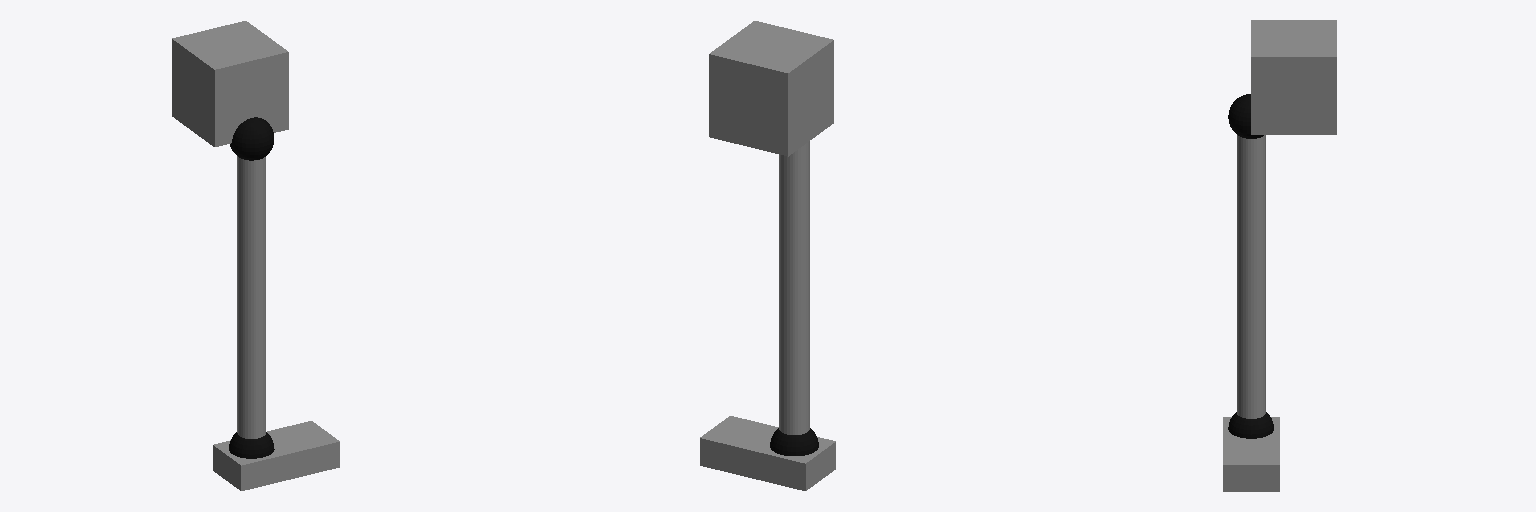
The robot description file, URDF, robot "right":
<?xml version="1.0"?>
<robot name="right">
  <!-- common materials -->
  <material name="black">
    <color rgba="0.1 0.1 0.1 1.0"/>
  </material>
  <material name="gray">
    <color rgba="0.6 0.6 0.6 1.0"/>
  </material>
  <material name="red">
    <color rgba="1 0 0 1"/>
  </material>
  <material name="green">
    <color rgba="0 1 0 1"/>
  </material>
  <material name="blue">
    <color rgba="0 0 1 1"/>
  </material>


  <!-- Pelvis -->
  <link name="pelvis">
    <visual>
      <geometry>
        <box size="0.15 0.15 0.15"/>
      </geometry>
      <origin xyz="0 0 0" rpy="0 0 0"/>
      <material name="gray"/>
    </visual>
  </link>

  <!-- Femur -->
  <link name="femur">
    <visual>
      <geometry>
        <sphere radius="0.04"/>
      </geometry>
      <origin xyz="0 0 0" rpy="0 0 0"/>
      <material name="black"/>
    </visual>
    <visual>
      <geometry>
        <!-- <box size="0.05 0.05 0.3"/> -->
        <cylinder length="0.3" radius="0.025"/>
      </geometry>
      <origin xyz="0 0 -0.15" rpy="0 0 0"/>
      <material name="gray"/>
    </visual>
  </link>

  <!-- Tibia -->
  <link name="tibia">
    <!-- <visual>
      <geometry>
        <sphere radius="0.04"/>
      </geometry>
      <origin xyz="0 0 0" rpy="0 0 0"/>
      <material name="black"/>
    </visual> -->
    <visual>
      <geometry>
        <!-- <box size="0.05 0.05 0.3"/> -->
        <cylinder length="0.3" radius="0.025"/>
      </geometry>
      <origin xyz="0 0 -0.15" rpy="0 0 0"/>
      <material name="gray"/>
    </visual>
  </link>

  <!-- Foot -->
  <link name="foot">
    <visual>
      <geometry>
        <sphere radius="0.04"/>
      </geometry>
      <origin xyz="0 0 0" rpy="0 0 0"/>
      <material name="black"/>
    </visual>
    <visual>
      <geometry>
        <box size="0.2 0.1 0.05"/>
      </geometry>
      <origin xyz="0.05 0 -0.025" rpy="0 0 0"/>
      <material name="gray"/>
    </visual>
  </link>

  <!-- Hip joint (ball joint approximation using 3 continuous joints) -->
  <!-- <joint name="hip_yaw" type="continuous">
    <parent link="pelvis"/>
    <child link="hip_yaw_link"/>
    <origin xyz="0 -0.075 -0.075" rpy="0 0 0"/>
    <axis xyz="0 0 1"/>
    <limit lower="-1.3" upper="1.3" effort="50" velocity="1.0"/>
  </joint>

  <link name="hip_yaw_link"/>

  <joint name="hip_roll" type="continuous">
    <parent link="hip_yaw_link"/>
    <child link="hip_roll_link"/>
    <origin xyz="0 0 0" rpy="0 0 0"/>
    <axis xyz="1 0 0"/>
    <limit lower="-1.3" upper="0.0" effort="50" velocity="1.0"/>
  </joint>

  <link name="hip_roll_link"/>

  <joint name="hip_pitch" type="continuous">
    <parent link="hip_roll_link"/>
    <child link="femur"/>
    <origin xyz="0 0 0" rpy="0 0 0"/>
    <axis xyz="0 1 0"/>
    <limit lower="-1.3" upper="1.3" effort="50" velocity="1.0"/>
  </joint> -->

  <joint name="hip_roll" type="continuous">
    <parent link="pelvis"/>
    <child link="hip_roll_link"/>
    <origin xyz="0 -0.075 -0.075" rpy="0 0 0"/>
    <axis xyz="1 0 0"/>
    <limit lower="-1.3" upper="1.3" effort="50" velocity="1.0"/>
  </joint>

  <link name="hip_roll_link"/>

  <joint name="hip_pitch" type="continuous">
    <parent link="hip_roll_link"/>
    <child link="hip_pitch_link"/>
    <origin xyz="0 0 0" rpy="0 0 0"/>
    <axis xyz="0 1 0"/>
    <limit lower="-1.3" upper="0.0" effort="50" velocity="1.0"/>
  </joint>

  <link name="hip_pitch_link"/>

  <joint name="hip_yaw" type="continuous">
    <parent link="hip_pitch_link"/>
    <child link="femur"/>
    <origin xyz="0 0 0" rpy="0 0 0"/>
    <axis xyz="0 0 1"/>
    <limit lower="-1.3" upper="1.3" effort="50" velocity="1.0"/>
  </joint>



  <!-- Knee joint -->
  <joint name="knee_joint" type="revolute">
    <parent link="femur"/>
    <child link="tibia"/>
    <origin xyz="0 0 -0.3" rpy="0 0 0"/>
    <axis xyz="0 1 0"/>
    <limit lower="0" upper="2.6" effort="50" velocity="1.0"/>
  </joint>

  <!-- Ankle joint -->
  <joint name="ankle_joint" type="revolute">
    <parent link="tibia"/>
    <child link="foot"/>
    <origin xyz="0 0 -0.3" rpy="0 0 0"/>
    <axis xyz="0 1 0"/>
    <limit lower="-1.0" upper="1.0" effort="50" velocity="1.0"/>
  </joint>
</robot>

--- Render facts (derived) ---
Views: 3 orthographic renders of the robot side by side, from view 1: azimuth 30°, elevation 25°; view 2: azimuth 150°, elevation 25°; view 3: azimuth 270°, elevation 25°.
Robot: right — 6 links, 5 joints (2 revolute, 3 continuous); root link pelvis; default pose: every joint at zero.
Visible links, largest first — view 1: pelvis, foot, femur, tibia; view 2: pelvis, foot, tibia, femur; view 3: pelvis, femur, foot, tibia.
Link boxes in pixels (box(x1,y1,x2,y2)): pelvis: box(172, 21, 288, 146); foot: box(213, 421, 339, 490); femur: box(230, 117, 273, 299); tibia: box(237, 294, 265, 438); pelvis: box(709, 21, 833, 156); foot: box(700, 416, 835, 490); tibia: box(779, 281, 809, 434); femur: box(779, 141, 809, 285); pelvis: box(1251, 20, 1336, 134); femur: box(1228, 94, 1265, 278); foot: box(1223, 412, 1279, 491); tibia: box(1237, 274, 1265, 418).
Bounding box of the posed robot: 0.225 × 0.2 × 0.8 m (x, y, z).
Geometry: primitives only (box / cylinder / sphere), no mesh files.
